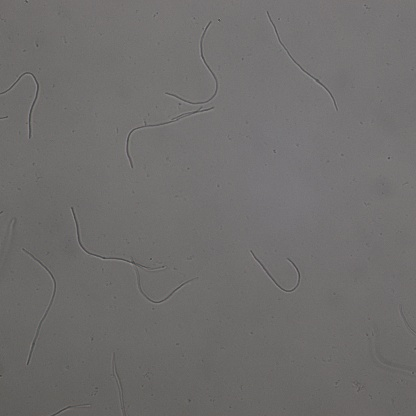Sensitive: (267, 12, 338, 111), (72, 207, 165, 271), (126, 107, 214, 169), (165, 22, 218, 106), (23, 248, 57, 367), (133, 258, 199, 303), (1, 70, 40, 139), (251, 251, 302, 293), (53, 403, 88, 415)
